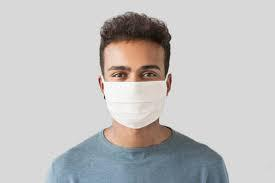mask: (97, 79, 172, 131)
